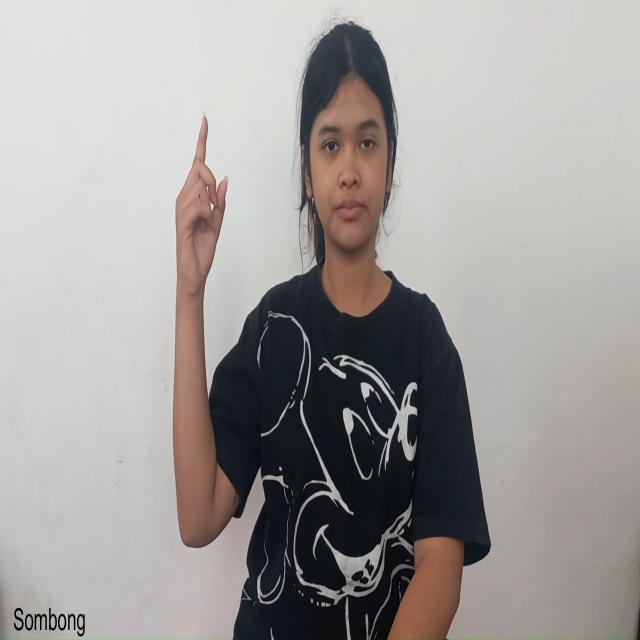Sombong -BISINDO-: (171, 107, 230, 551)
